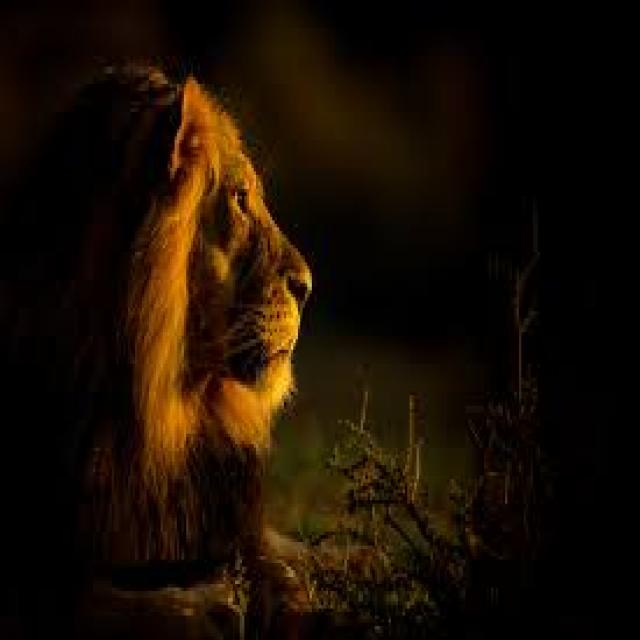Lion: (7, 53, 323, 597)
